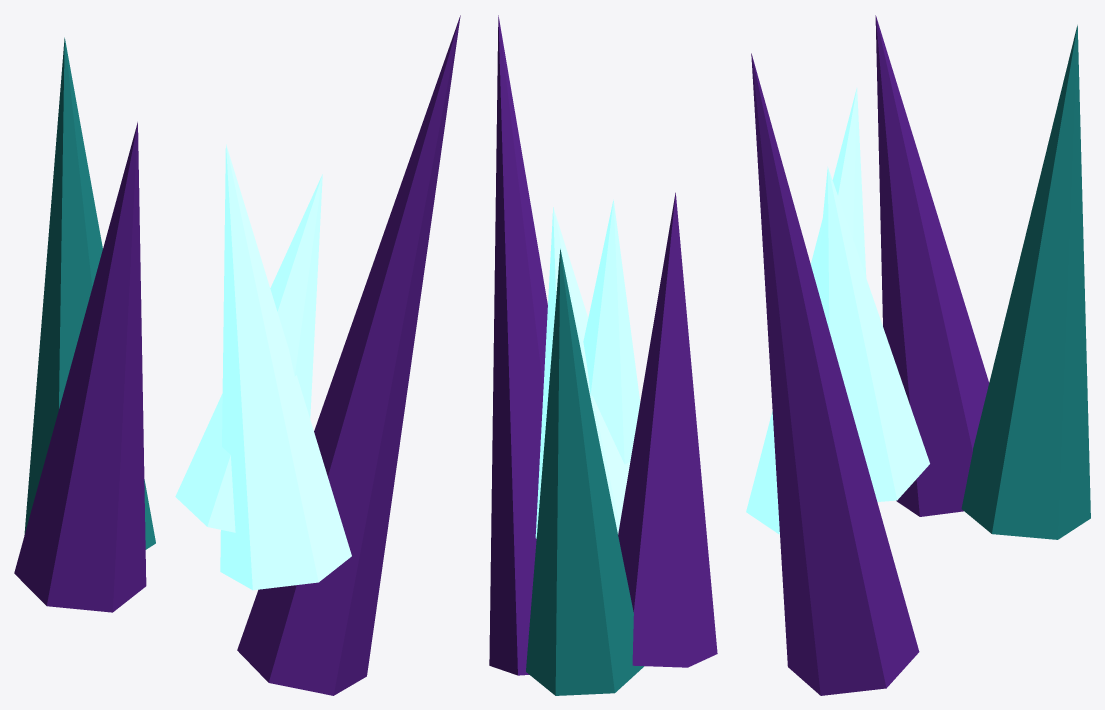
Rendered from Prop_OR_Crystal_18.glb.
The picture shows the model from 3 angles, left to right: view 1: azimuth 30°, elevation 25°; view 2: azimuth 150°, elevation 25°; view 3: azimuth 270°, elevation 25°; orthographic projection. The views are drawn at different scales.
Parts seen in each view (by area): view 1: Prop_OR_Crystal_18; view 2: Prop_OR_Crystal_18; view 3: Prop_OR_Crystal_18.
Part boxes in pixels (x1,y1,x2,y2): Prop_OR_Crystal_18: (14,15,460,695); Prop_OR_Crystal_18: (489,15,717,695); Prop_OR_Crystal_18: (746,15,1090,695).
Bounding box in the file's own units: 0.7159 × 1.4 × 0.6494.
